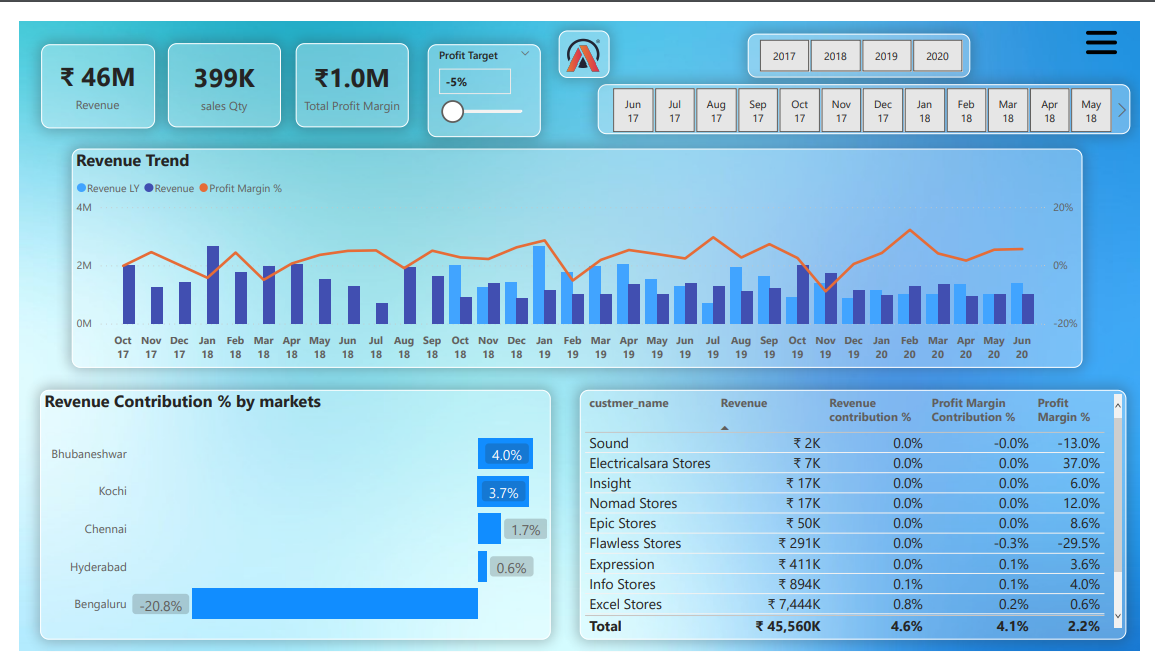

The dashboard page shown, as its layout file describes it:
{"tool":"powerbi","page":{"name":"Performance Insights","canvas":[1280,720],"ordinal":2},"visuals":[{"type":"image","box":[1214.8,3,44.4,44.4],"z":0},{"type":"shape","box":[25.3,26.5,130.3,95.3],"z":5000},{"type":"card","fields":{"Values":["Base Measures 2.Revenue"]},"box":[25.3,25.3,129,91.7],"z":6000},{"type":"shape","box":[24.1,420.9,582.5,284.6],"z":7000},{"type":"barChart","title":"Revenue Contribution % by markets","fields":{"Category":["sales markets.zone","sales markets.markets_name"],"Y":["Base Measures 2.Profit Margin %"]},"box":[24.1,420.9,582.5,284.6],"z":8000},{"type":"shape","box":[60.3,144.7,1154.2,250.9],"z":9000},{"type":"lineClusteredColumnComboChart","title":"Revenue Trend","fields":{"Category":["sales date.cy_date"],"Y":["Base Measures 2.Revenue LY","Base Measures 2.Revenue"],"Y2":["Base Measures 2.Profit Margin %"]},"box":[60.3,144.7,1154.2,250.9],"z":10000},{"type":"shape","box":[640.4,420.9,623.5,284.6],"z":11000},{"type":"tableEx","title":"Top 5 customer","fields":{"Values":["sales customers.custmer_name","Base Measures 2.Revenue","Base Measures 2.Revenue contribution %","Base Measures 2.Profit Margin Contribution %","Base Measures 2.Profit Margin %"]},"box":[640.4,420.9,623.5,284.6],"z":12000},{"type":"shape","box":[832.2,14.5,254.5,49.4],"z":13000},{"type":"slicer","fields":{"Values":["sales date.year"]},"box":[820.1,14.5,281,49.4],"z":14000},{"type":"shape","box":[660.9,71.2,607.8,56.7],"z":15000},{"type":"slicer","fields":{"Values":["sales date.cy_date"]},"box":[652.5,68.7,618.7,63.9],"z":16000},{"type":"shape","box":[170.1,25.3,129,95.3],"z":17000},{"type":"shape","box":[316,25.3,129,95.3],"z":18000},{"type":"shape","box":[466.7,26.5,129,104.9],"z":19000},{"type":"card","fields":{"Values":["Base Measures 2.sales Qty"]},"box":[170.1,25.3,129,95.3],"z":20000},{"type":"card","fields":{"Values":["Base Measures 2.Total Profit Margin"]},"box":[316,25.3,129,95.3],"z":21000},{"type":"slicer","fields":{"Values":["Profit Target.Profit Target"]},"box":[466.7,25.3,129,104.9],"z":22000},{"type":"shape","box":[616.3,10.9,57.9,53.1],"z":23000},{"type":"image","box":[617.5,14.5,54.3,47],"z":24000}]}

Visuals, with their boxes on the page's 1280x720 design canvas (x1, y1, x2, y2). These are canvas units, not pixel positions in the 1155x670 screenshot, which may show the page scaled, cropped or inside an application window:
image: BBox(1215, 3, 1259, 47)
shape: BBox(25, 26, 156, 122)
card - Base Measures 2.Revenue: BBox(25, 25, 154, 117)
shape: BBox(24, 421, 607, 706)
"Revenue Contribution % by markets" barChart: BBox(24, 421, 607, 706)
shape: BBox(60, 145, 1214, 396)
"Revenue Trend" lineClusteredColumnComboChart: BBox(60, 145, 1214, 396)
shape: BBox(640, 421, 1264, 706)
"Top 5 customer" tableEx: BBox(640, 421, 1264, 706)
shape: BBox(832, 14, 1087, 64)
slicer - sales date.year: BBox(820, 14, 1101, 64)
shape: BBox(661, 71, 1269, 128)
slicer - sales date.cy_date: BBox(652, 69, 1271, 133)
shape: BBox(170, 25, 299, 121)
shape: BBox(316, 25, 445, 121)
shape: BBox(467, 26, 596, 131)
card - Base Measures 2.sales Qty: BBox(170, 25, 299, 121)
card - Base Measures 2.Total Profit Margin: BBox(316, 25, 445, 121)
slicer - Profit Target.Profit Target: BBox(467, 25, 596, 130)
shape: BBox(616, 11, 674, 64)
image: BBox(618, 14, 672, 62)
